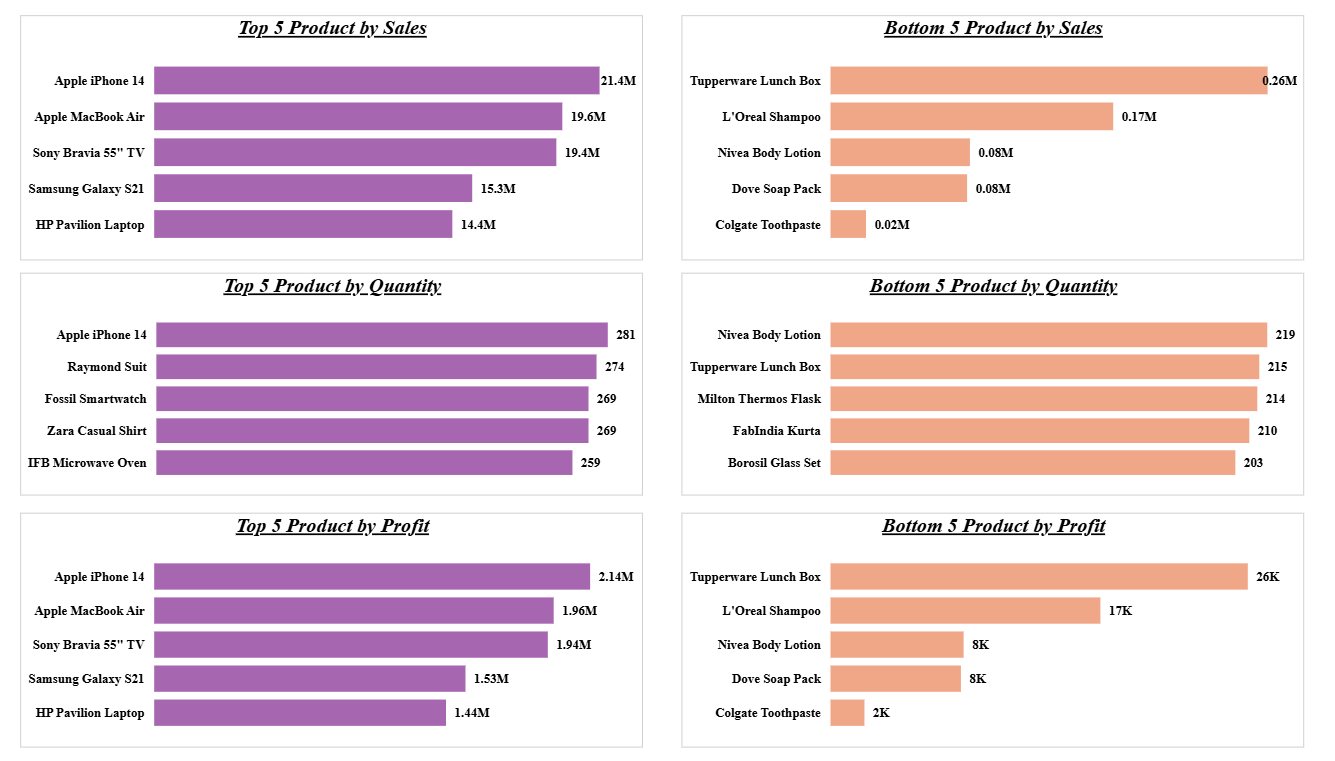

What the dashboard file says about the page in this screenshot:
{"tool":"powerbi","page":{"name":"Top Bottom 5 Analysis","canvas":[1280,720],"ordinal":0},"visuals":[{"type":"barChart","title":"Top 5 Product by Sales","fields":{"Category":["Dim Product.Product Name"],"Y":["Sum(Fact Table.Net Sales)"]},"box":[42.5,19.2,579.1,227.8],"z":0},{"type":"barChart","title":"Bottom 5 Product by Sales","fields":{"Category":["Dim Product.Product Name"],"Y":["Sum(Fact Table.Net Sales)"]},"box":[658.7,19.2,579.1,227.8],"z":1000},{"type":"barChart","title":"Top 5 Product by Quantity","fields":{"Category":["Dim Product.Product Name"],"Y":["Sum(Fact Table.Units Sold)"]},"box":[42.5,259.3,579.1,207.2],"z":2000},{"type":"barChart","title":"Bottom 5 Product by Quantity","fields":{"Category":["Dim Product.Product Name"],"Y":["Sum(Fact Table.Units Sold)"]},"box":[658.7,259.3,579.1,207.2],"z":3000},{"type":"barChart","title":"Top 5 Product by Profit","fields":{"Category":["Dim Product.Product Name"],"Y":["Sum(Fact Table.Profit)"]},"box":[42.5,483,579.1,218.2],"z":4000},{"type":"barChart","title":"Bottom 5 Product by Profit","fields":{"Category":["Dim Product.Product Name"],"Y":["Sum(Fact Table.Profit)"]},"box":[658.7,483,579.1,218.2],"z":5000}]}

Visuals, with their boxes in screenshot pixels (x1, y1, x2, y2), scaled from the page's 1280x720 canvas onto the 1335x761 screenshot:
"Top 5 Product by Sales" barChart: region(44, 20, 648, 261)
"Bottom 5 Product by Sales" barChart: region(687, 20, 1291, 261)
"Top 5 Product by Quantity" barChart: region(44, 274, 648, 493)
"Bottom 5 Product by Quantity" barChart: region(687, 274, 1291, 493)
"Top 5 Product by Profit" barChart: region(44, 511, 648, 741)
"Bottom 5 Product by Profit" barChart: region(687, 511, 1291, 741)
